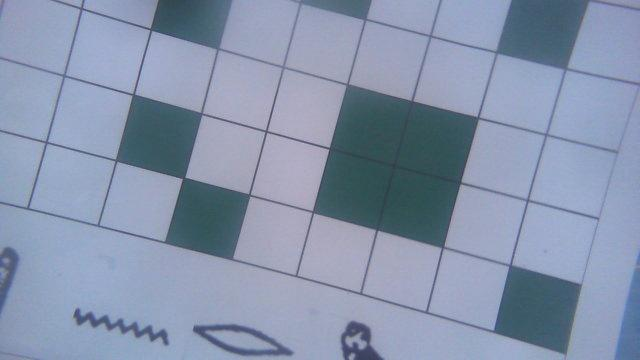Mouth: (188, 317, 295, 360)
Owl: (337, 316, 389, 360)
Water: (73, 307, 172, 347)
